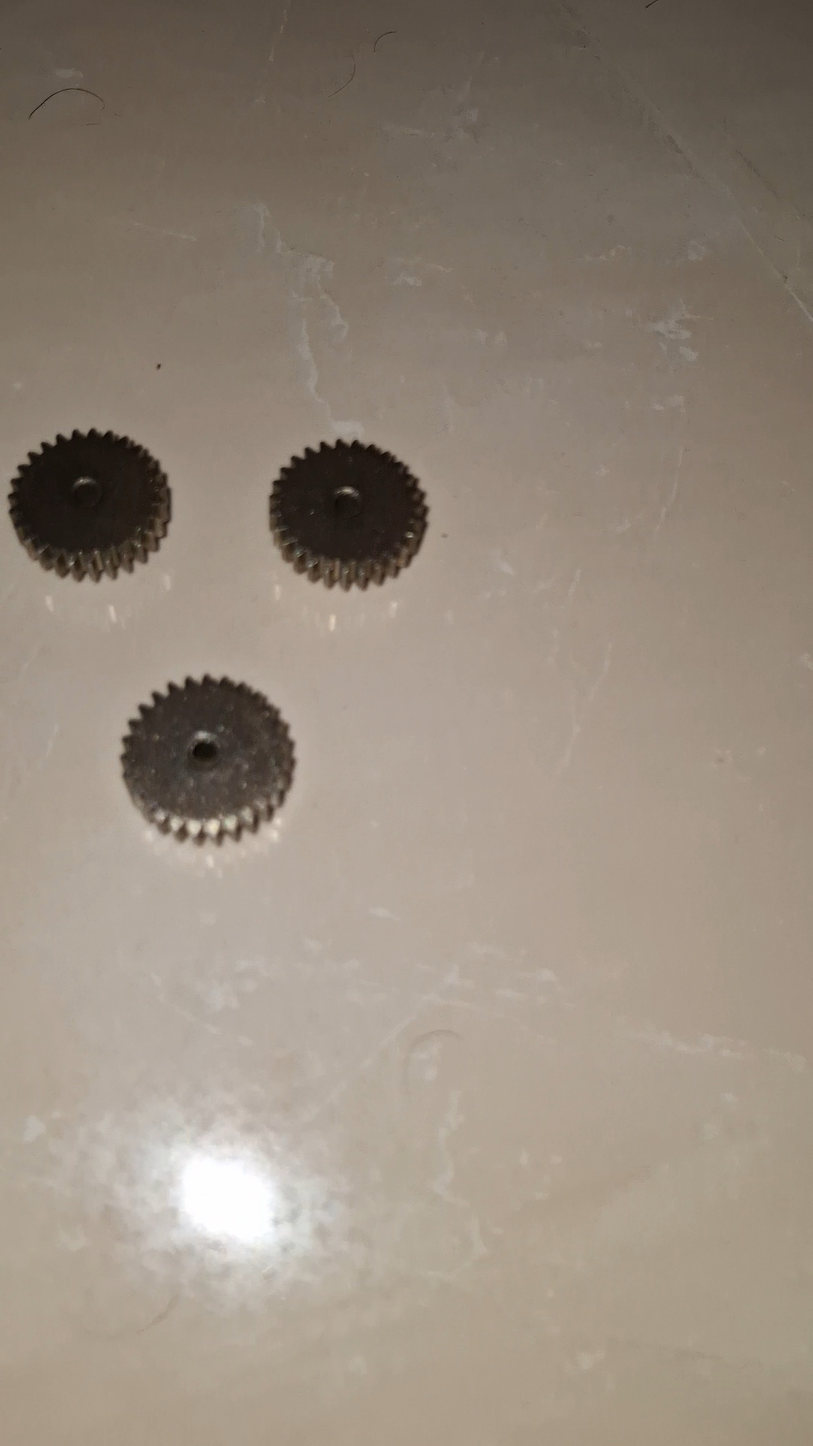spur gear: (122, 676, 294, 841), (9, 430, 171, 580), (270, 441, 428, 589)
